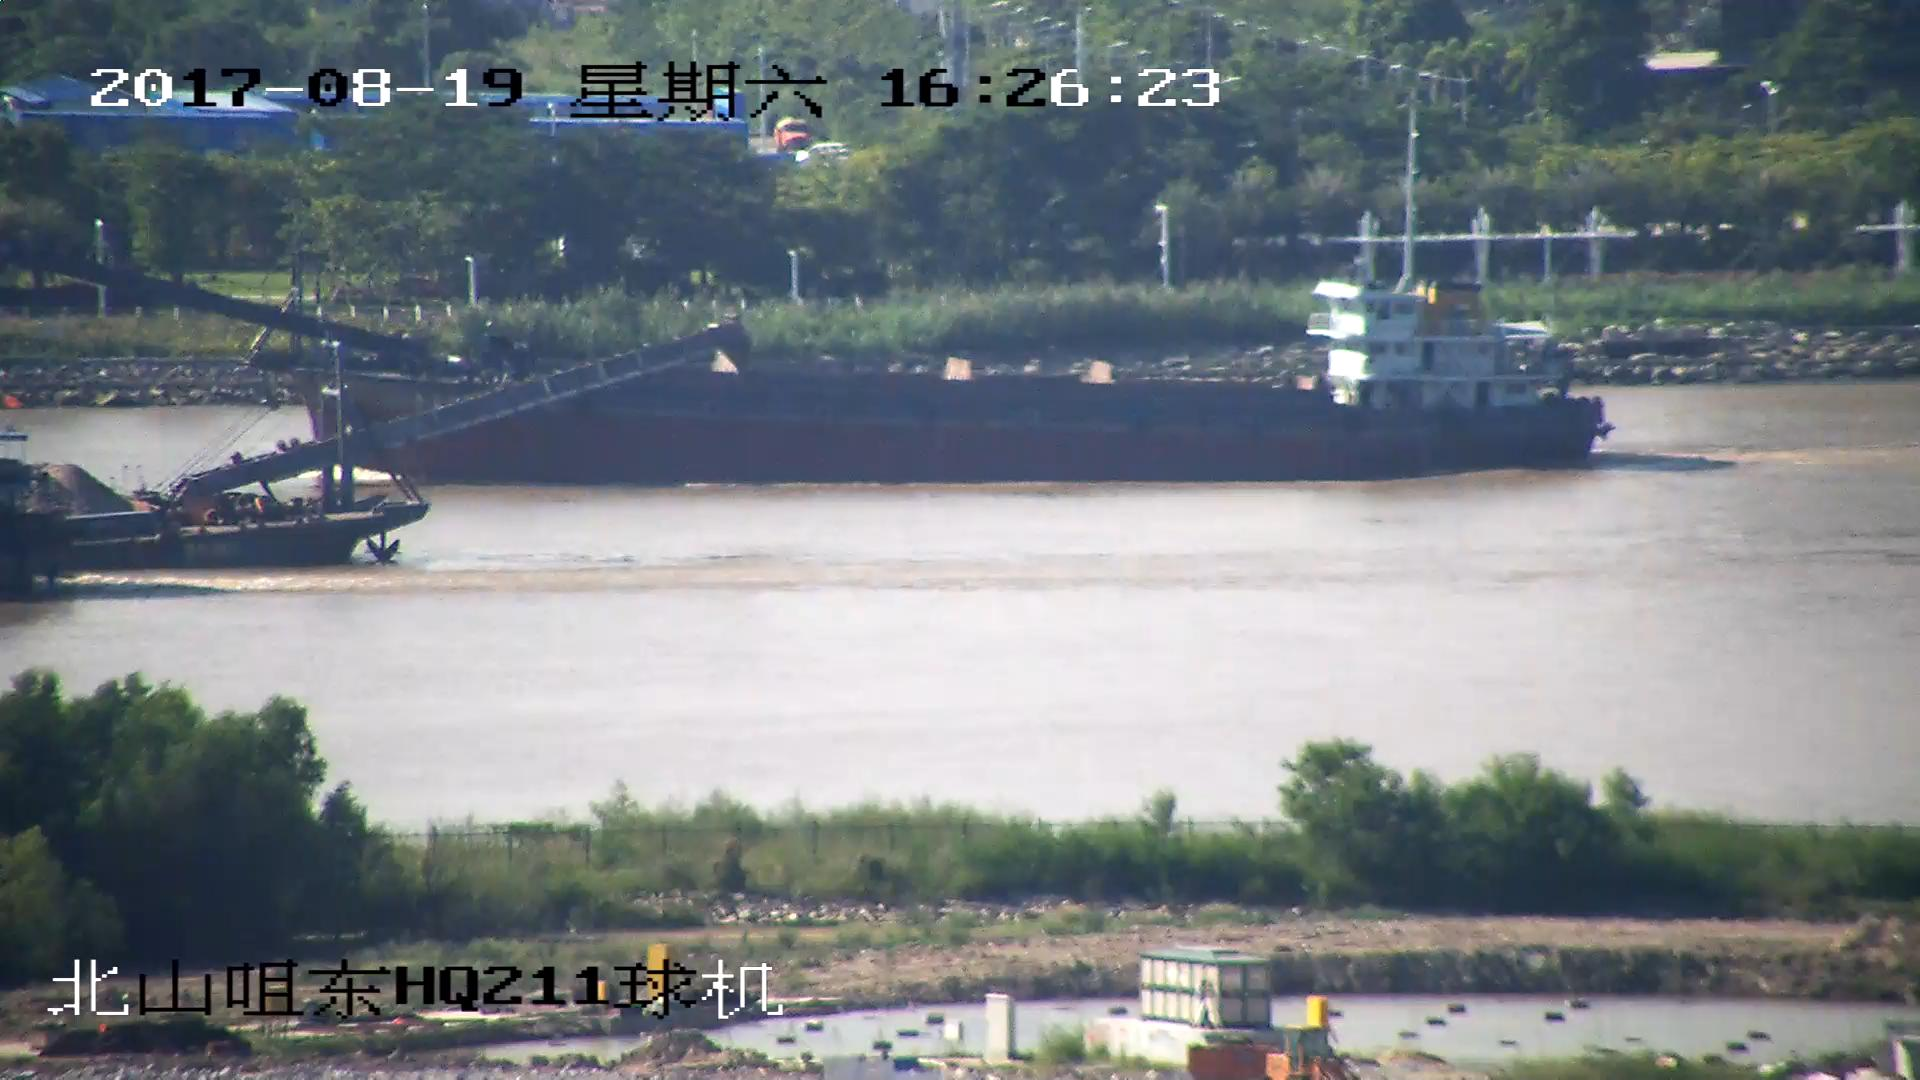bulk cargo carrier: (1, 250, 1605, 476), (1, 320, 749, 577)
